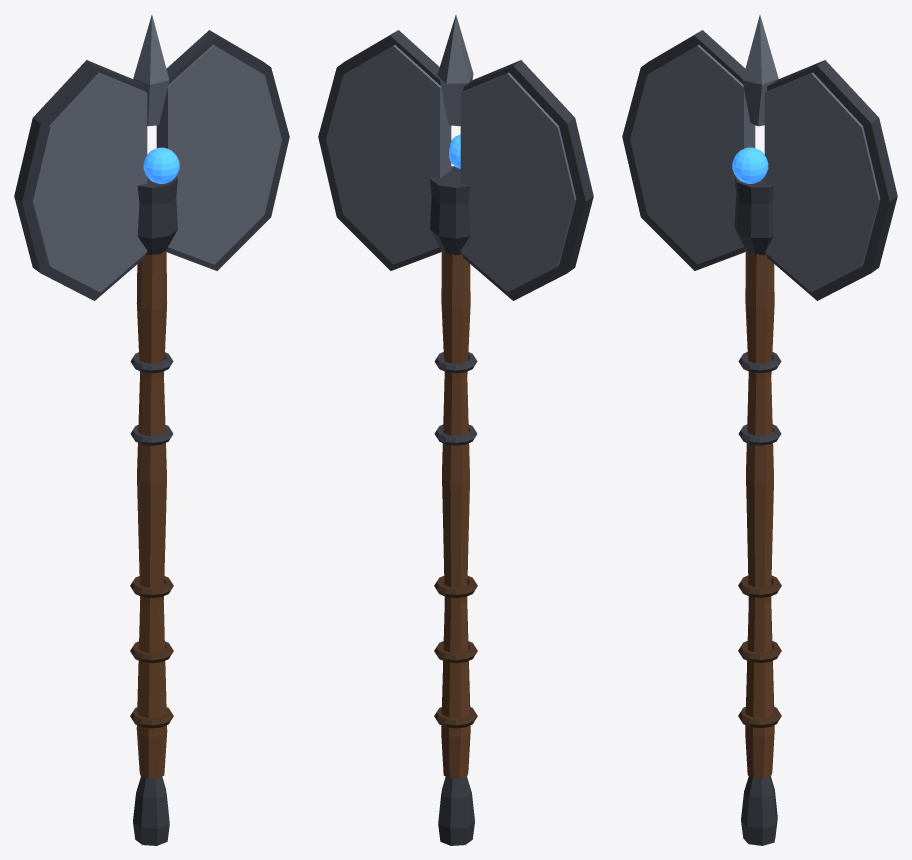
Rendered from staff_paleaxe.glb.
3 views of the same model, side by side, from view 1: azimuth 30°, elevation 25°; view 2: azimuth 150°, elevation 25°; view 3: azimuth 330°, elevation 25° (orthographic).
Parts seen in each view (by area): view 1: Pa_Blade0, Pa_Blade1, Pa_Shaft, Pa_Edge0, Pa_Edge1, Pa_Neck, Pa_Pommel, Pa_Top, Pa_Gem, Pa_Wrap2, Pa_Wrap1; view 2: Pa_Blade1, Pa_Blade0, Pa_Shaft, Pa_Edge0, Pa_Edge1, Pa_Neck, Pa_Pommel, Pa_Top, Pa_Wrap2, Pa_Wrap1; view 3: Pa_Blade1, Pa_Blade0, Pa_Shaft, Pa_Edge1, Pa_Edge0, Pa_Neck, Pa_Pommel, Pa_Top, Pa_Gem, Pa_Wrap2, Pa_Wrap1.
Boxes of the visible parts, x1,y1,x2,y2 form: Pa_Blade0: (31,72,147,292); Pa_Blade1: (156,45,281,264); Pa_Shaft: (136,250,167,779); Pa_Edge0: (14,60,144,300); Pa_Edge1: (166,30,289,270); Pa_Neck: (137,176,177,255); Pa_Pommel: (133,777,169,845); Pa_Top: (133,15,169,126); Pa_Gem: (143,147,179,183); Pa_Wrap2: (130,576,173,597); Pa_Wrap1: (130,641,173,663); Pa_Blade1: (326,45,451,264); Pa_Blade0: (460,72,576,292); Pa_Shaft: (441,250,470,779); Pa_Edge0: (463,60,593,300); Pa_Edge1: (318,30,441,270); Pa_Neck: (430,166,470,255); Pa_Pommel: (438,777,474,845); Pa_Top: (437,15,473,126); Pa_Wrap2: (434,576,477,597); Pa_Wrap1: (434,641,477,663); Pa_Blade1: (764,72,880,292); Pa_Blade0: (630,45,755,264); Pa_Shaft: (745,250,774,778); Pa_Edge1: (767,60,897,300); Pa_Edge0: (622,30,745,270); Pa_Neck: (734,176,773,254); Pa_Pommel: (741,776,777,845); Pa_Top: (742,15,778,126); Pa_Gem: (732,147,768,183); Pa_Wrap2: (738,575,781,597); Pa_Wrap1: (738,641,781,662).
Bounding box in the file's own units: 0.774 × 2.28 × 0.1583.
